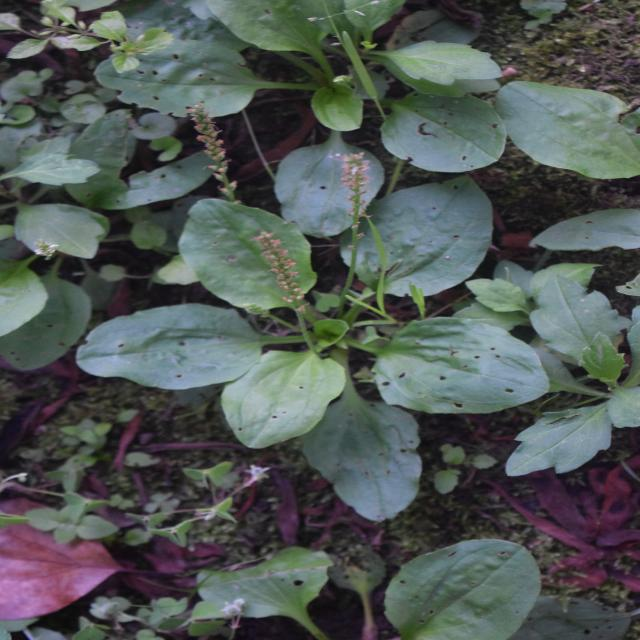plantain: (148, 107, 475, 524)
